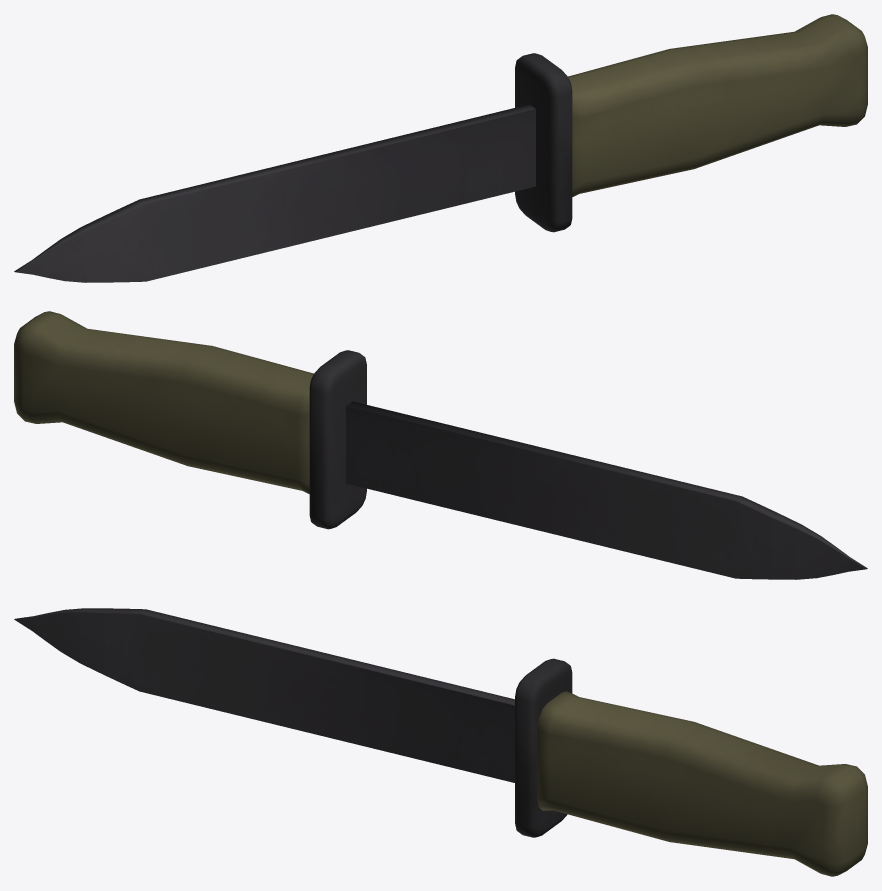
The model's file is knife.fbx.
3 views of the same model, one above another, from view 1: azimuth 30°, elevation 25°; view 2: azimuth 150°, elevation 25°; view 3: azimuth 330°, elevation 25° (orthographic).
Parts seen in each view (by area): view 1: knife; view 2: knife; view 3: knife.
Boxes of the visible parts, bbox=[...] form: knife: bbox=[14, 14, 867, 282]; knife: bbox=[14, 311, 867, 579]; knife: bbox=[14, 608, 867, 876].
Bounding box in the file's own units: 24.71 × 4.43 × 2.14.
Materials: 1 (1 with a texture image).
